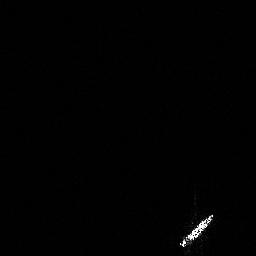ship: (176, 208, 217, 250)
